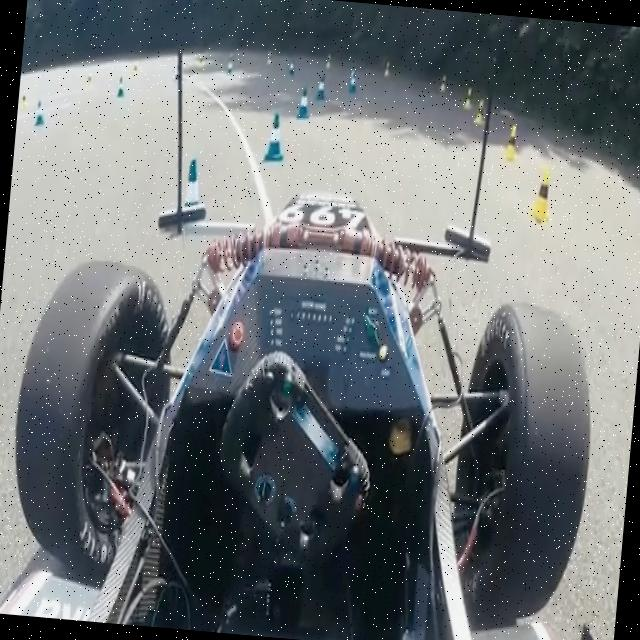blue_cone: (254, 109, 289, 171), (174, 154, 202, 208), (293, 82, 313, 120), (315, 68, 331, 106), (344, 62, 358, 98)
yellow_cone: (526, 167, 560, 238), (504, 121, 522, 160), (436, 62, 456, 96), (472, 92, 488, 128), (462, 77, 476, 107), (382, 55, 392, 82)
